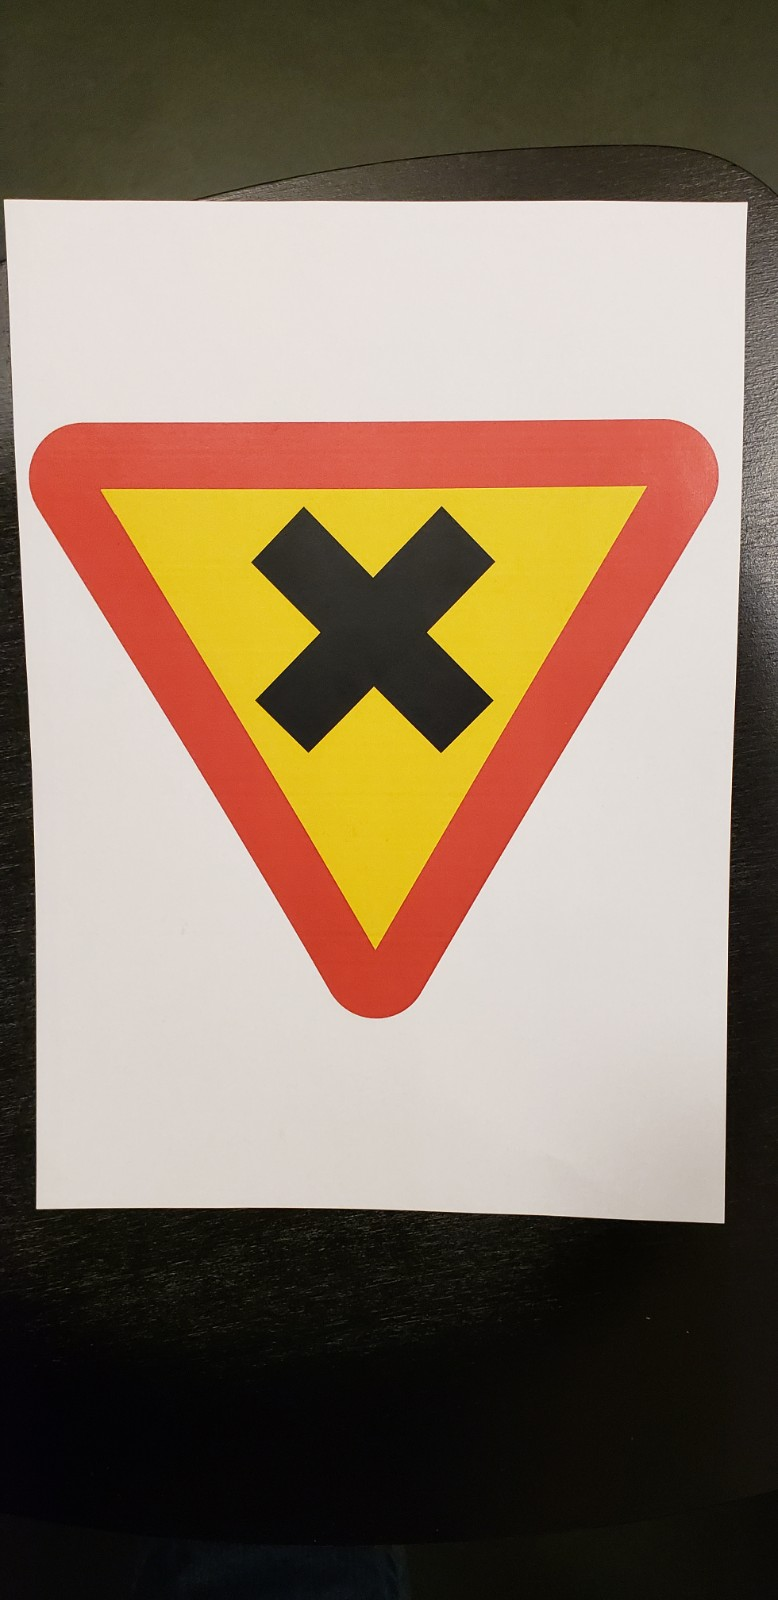junction: (7, 355, 744, 1115)
